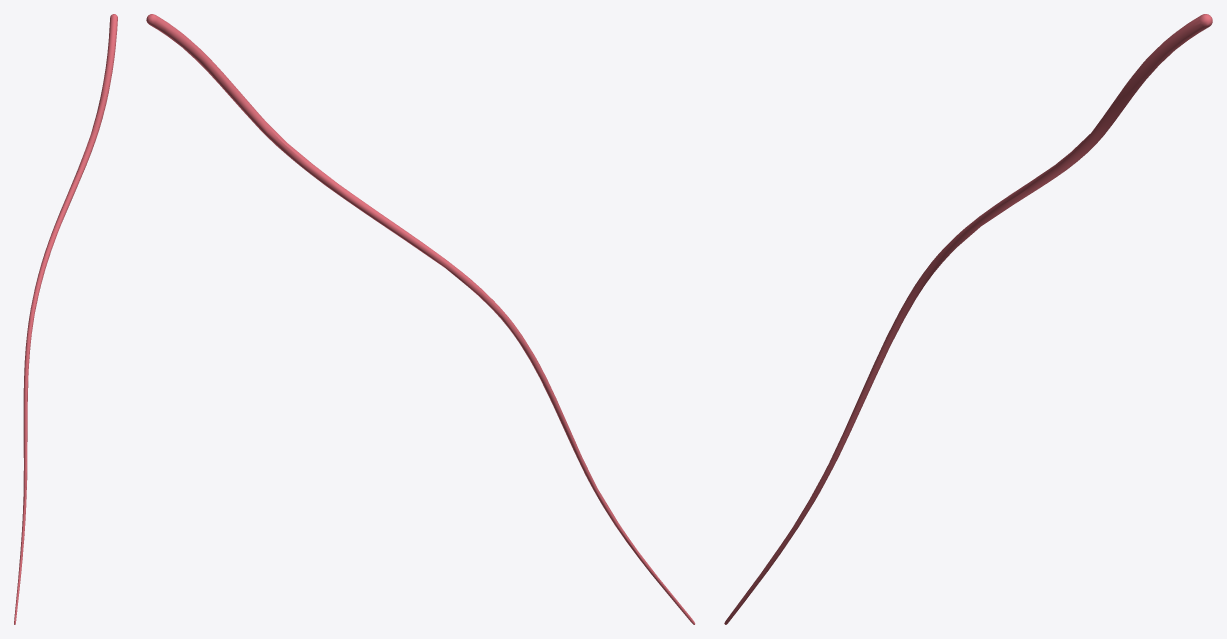
Rendered from fma22905_fj2371.glb.
3 views of the same model, side by side, from view 1: azimuth 30°, elevation 25°; view 2: azimuth 150°, elevation 25°; view 3: azimuth 270°, elevation 25° (orthographic). The views are drawn at different scales.
Parts seen in each view (by area): view 1: FMA22905_FJ2371; view 2: FMA22905_FJ2371; view 3: FMA22905_FJ2371.
Part boxes in pixels (x1=…): FMA22905_FJ2371: x1=14, y1=14, x2=117, y2=624; FMA22905_FJ2371: x1=146, y1=14, x2=695, y2=624; FMA22905_FJ2371: x1=724, y1=14, x2=1212, y2=624.
Bounding box in the file's own units: 0.051 × 0.0935 × 0.0509.
